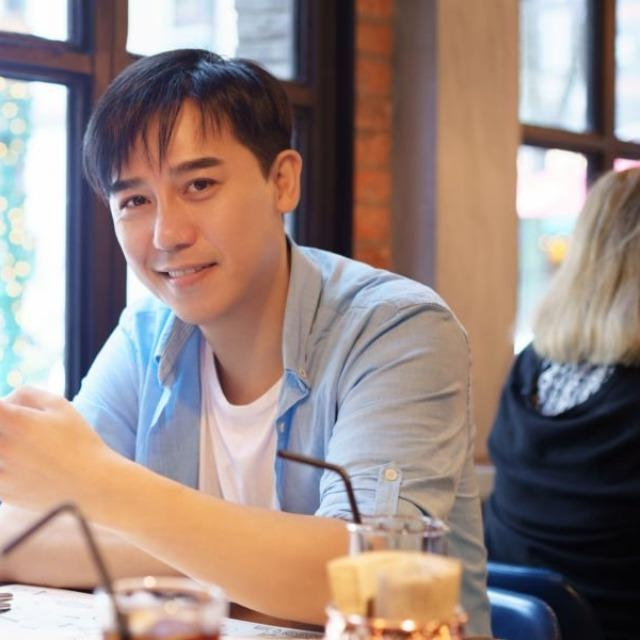Sin_Casco_Mascarrilla: (82, 50, 306, 320)
